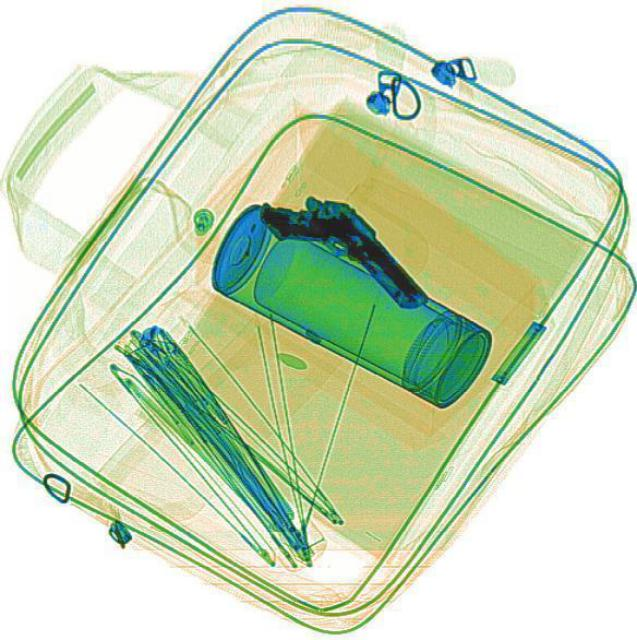Gun: (252, 164, 429, 344)
